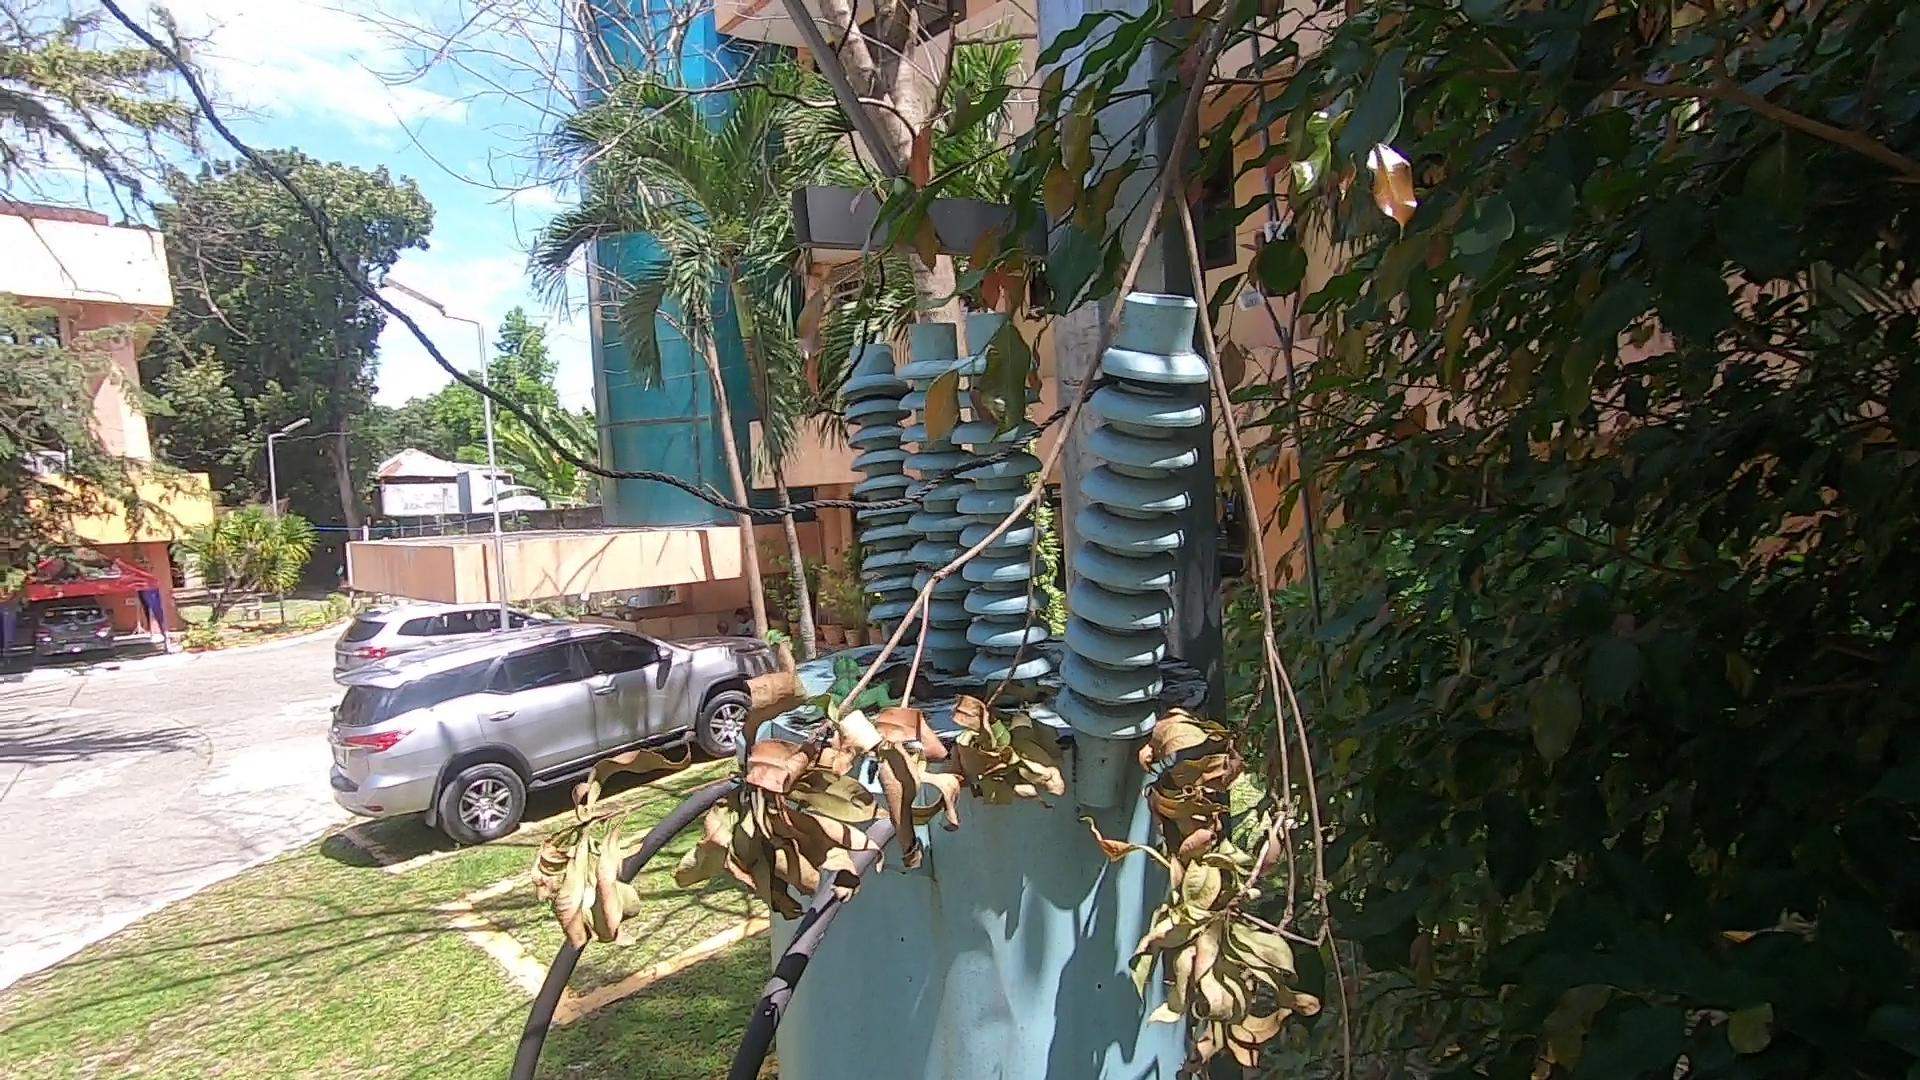branch with leaves: (527, 1, 1416, 1073)
